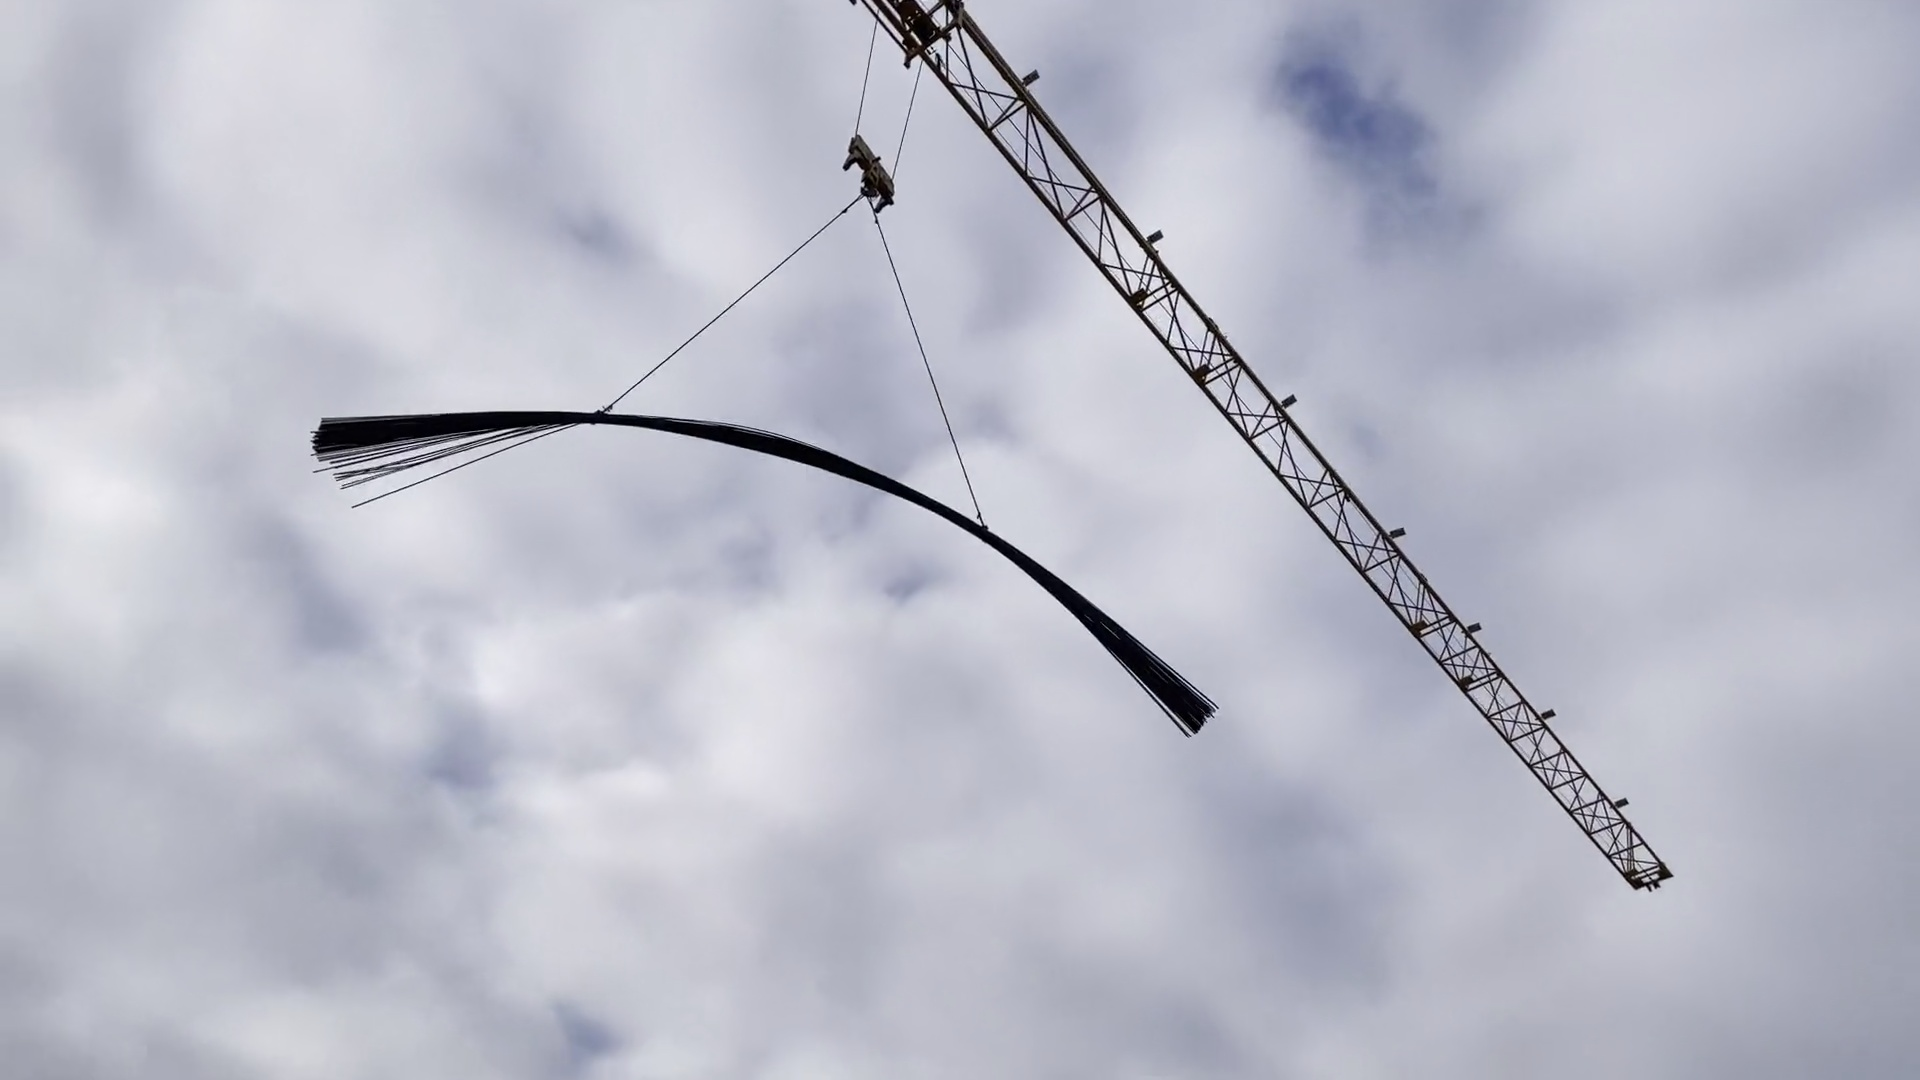hook: (843, 131, 899, 211)
rebar: (310, 385, 1226, 742)
